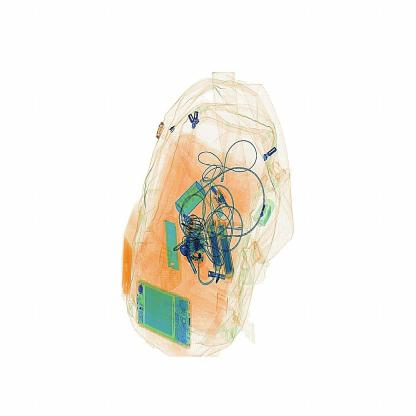pliers: (162, 217, 181, 283)
